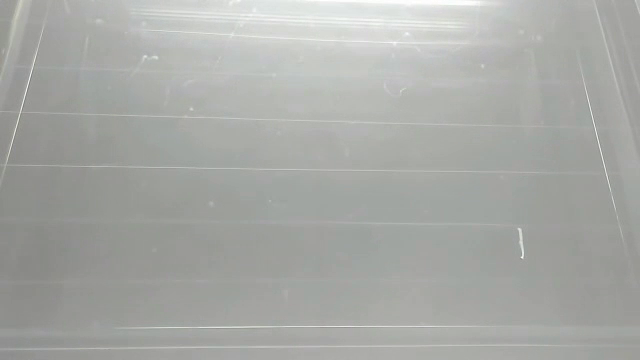alpha: (514, 224, 531, 262)
